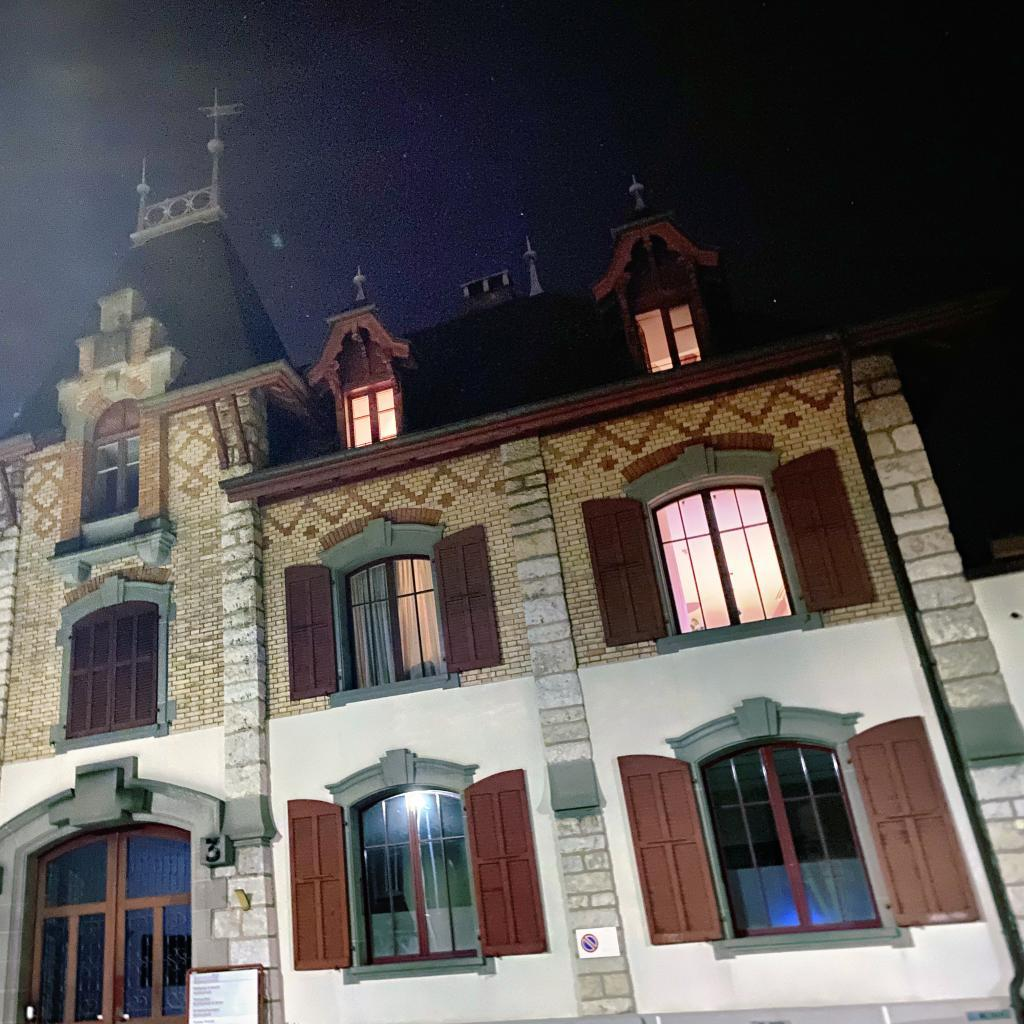facade: (0, 83, 1024, 1024)
non-building-infrastructure: (185, 962, 264, 1024)
window: (700, 740, 886, 939), (26, 823, 190, 1024), (652, 482, 798, 635), (359, 789, 477, 966), (65, 599, 160, 740), (345, 553, 441, 688), (633, 301, 703, 374), (92, 435, 139, 522), (350, 386, 396, 448)
